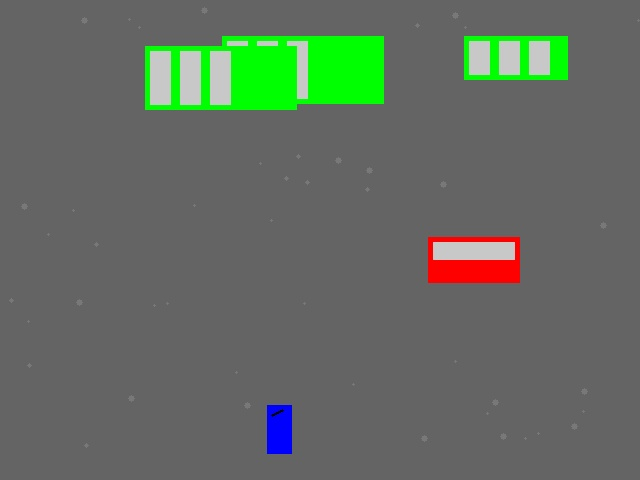bus: (222, 36, 383, 103), (145, 46, 296, 109), (464, 36, 567, 79)
car: (428, 237, 519, 282)
motorcycle: (267, 405, 291, 453)
